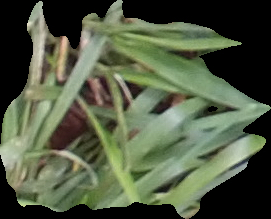grass: (1, 1, 270, 218)
